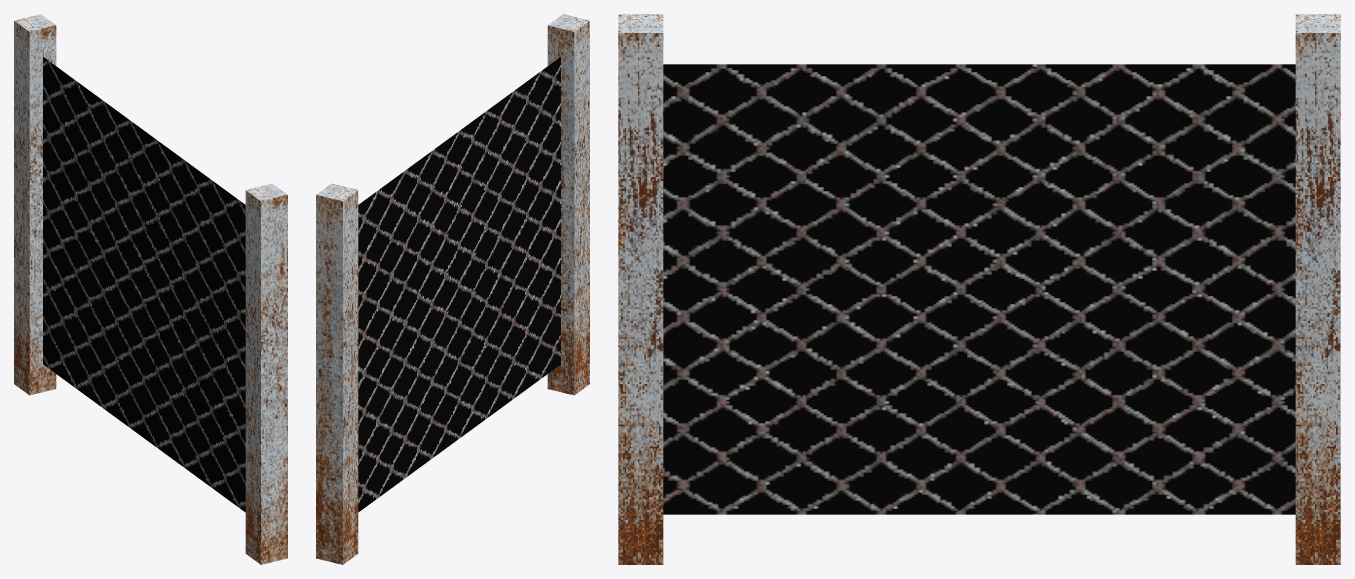
File: chainlink_fence.obj
3 renders of one model, left to right at view 1: azimuth 30°, elevation 25°; view 2: azimuth 150°, elevation 25°; view 3: azimuth 270°, elevation 25°, orthographic. The views are drawn at different scales.
Parts seen in each view (by area): view 1: plane, mesh; view 2: plane, mesh; view 3: plane, mesh.
Boxes of the visible parts, x1,y1,x2,y2 form: plane: [43, 57, 245, 512]; mesh: [14, 14, 287, 564]; plane: [358, 57, 560, 512]; mesh: [316, 14, 589, 564]; plane: [663, 64, 1295, 514]; mesh: [618, 14, 1340, 564].
Size of the model in its own units: 0.0625 by 0.8125 by 1.
2 materials, 2 textured.
